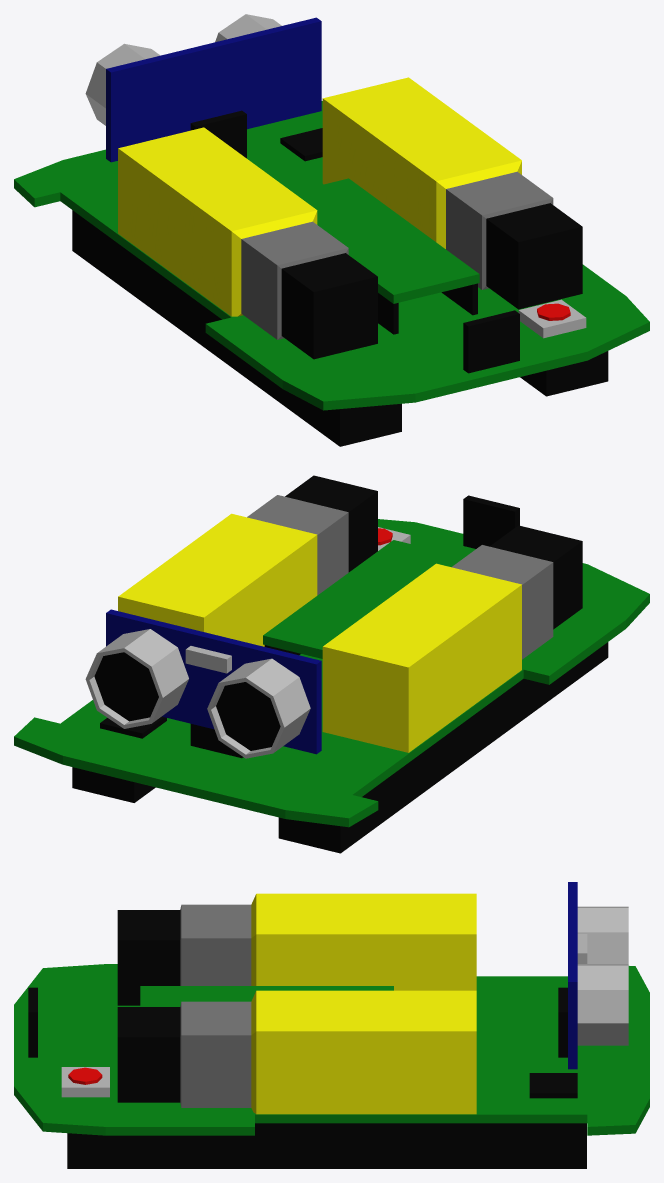
File: pico_arp_chassis.gltf
3 views of the same model, one above another, from view 1: azimuth 30°, elevation 25°; view 2: azimuth 150°, elevation 25°; view 3: azimuth 270°, elevation 25° (orthographic). The views are drawn at different scales.
Parts seen in each view (by area): view 1: moteur, chassis, capteur_distance, bloc_piles, pi_pico, connecteur_arriere, bouton, connecteur_avant, pates_pico, buzzer; view 2: moteur, chassis, capteur_distance, bloc_piles, pi_pico, connecteur_arriere, connecteur_avant, buzzer; view 3: moteur, chassis, bloc_piles, capteur_distance, pi_pico, bouton, buzzer, connecteur_avant, connecteur_arriere.
Part boxes in pixels (box(x1,y1,x2,y2)): moteur: box(118, 77, 582, 359); chassis: box(14, 101, 649, 410); capteur_distance: box(85, 14, 321, 162); bloc_piles: box(72, 210, 608, 446); pi_pico: box(293, 178, 479, 303); connecteur_arriere: box(463, 310, 519, 373); bouton: box(518, 299, 586, 338); connecteur_avant: box(190, 110, 246, 158); pates_pico: box(378, 283, 477, 334); buzzer: box(280, 128, 322, 161); moteur: box(118, 475, 582, 752); chassis: box(14, 519, 649, 827); capteur_distance: box(85, 609, 321, 758); bloc_piles: box(72, 642, 608, 853); pi_pico: box(263, 540, 464, 658); connecteur_arriere: box(463, 495, 519, 548); connecteur_avant: box(190, 724, 243, 758); buzzer: box(100, 716, 166, 738); moteur: box(117, 893, 476, 1114); chassis: box(14, 964, 649, 1135); bloc_piles: box(67, 1123, 586, 1168); capteur_distance: box(568, 882, 628, 1069); pi_pico: box(140, 986, 393, 1006); bouton: box(61, 1067, 109, 1097); buzzer: box(529, 1073, 577, 1098); connecteur_avant: box(558, 987, 567, 1057); connecteur_arriere: box(28, 987, 37, 1057).
Size of the model in its own units: 8 by 3.97 by 13.2.
